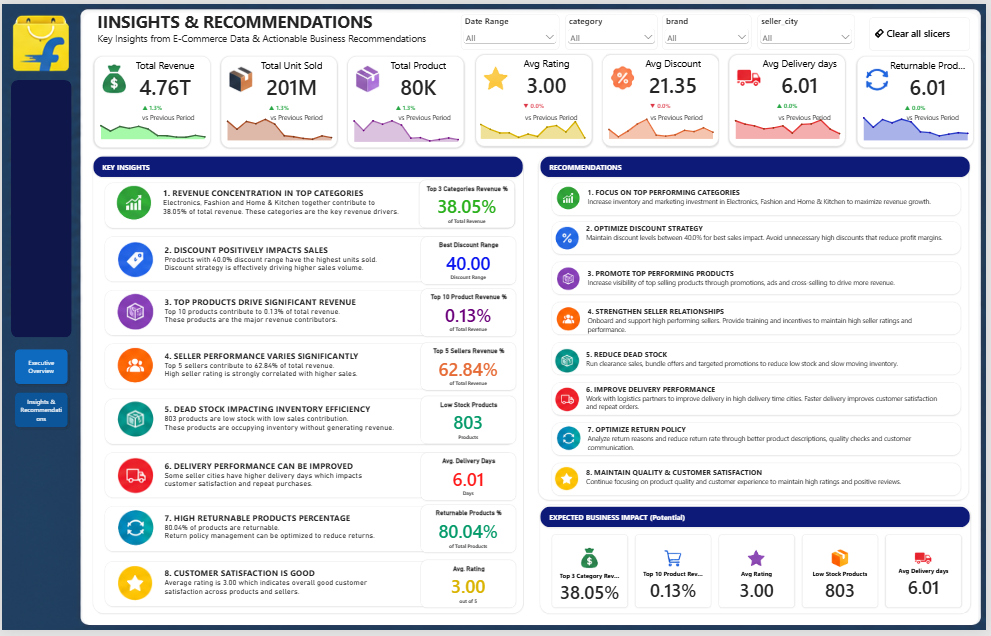

This screenshot's page, from the dashboard's own definition file:
{"tool":"powerbi","page":{"name":"Insights & Recommendations","canvas":[2200,1400],"ordinal":1},"visuals":[{"type":"shape","box":[180,20,2005,1370],"z":0},{"type":"cardVisual","fields":{"Data":["flipkard.Avg Delivery days"]},"box":[1628.1,114.2,260,205],"z":0,"group":"g2"},{"type":"cardVisual","fields":{"Data":["flipkard.Avg Discount"]},"box":[1343.5,114.5,260,205],"z":0,"group":"g3"},{"type":"cardVisual","fields":{"Data":["flipkard.Avg Rating"]},"box":[1059,114.8,260,205],"z":0,"group":"g4"},{"type":"cardVisual","fields":{"Data":["flipkard.Total Product"]},"box":[774.3,115.1,260,205],"z":0,"group":"g5"},{"type":"cardVisual","fields":{"Data":["flipkard.Total Unit Sold"]},"box":[489.7,115.4,260,205],"z":0,"group":"g6"},{"type":"cardVisual","fields":{"Data":["flipkard.Total Revenue"]},"box":[205.2,115.7,260,205],"z":0,"group":"g7"},{"type":"cardVisual","fields":{"Data":["flipkard.Avg Delivery days"]},"box":[1912.7,116,260,205],"z":0,"group":"g1"},{"type":"shape","box":[203.3,340,963.3,1023.3],"z":0,"group":"g8"},{"type":"shape","box":[1200,340,963.3,770],"z":0,"group":"g17"},{"type":"textbox","box":[359.6,412.3,558.9,73.3],"z":0,"group":"g9"},{"type":"textbox","box":[363.3,537.7,558.9,73.3],"z":0,"group":"g10"},{"type":"textbox","box":[363.2,655.7,558.9,73.3],"z":0,"group":"g11"},{"type":"textbox","box":[363.2,775.7,558.9,73.3],"z":0,"group":"g12"},{"type":"textbox","box":[363.2,895.7,558.9,73.3],"z":0,"group":"g13"},{"type":"textbox","box":[363.2,1019.7,558.9,73.3],"z":0,"group":"g14"},{"type":"textbox","box":[361.2,1137.7,558.9,73.3],"z":0,"group":"g15"},{"type":"textbox","box":[361.2,1259.7,558.9,73.3],"z":0,"group":"g16"},{"type":"group","id":"g1","title":"Group 7","box":[1902.7,116,281.4,205.7],"z":1000},{"type":"lineChart","fields":{"Category":["DateTable.Date.Variation.Date Hierarchy.Year","DateTable.Date.Variation.Date Hierarchy.Month"],"Y":["_Measures.Avg Rating"]},"box":[1045.6,227.4,281.4,91.4],"z":1000,"group":"g4"},{"type":"lineChart","fields":{"Category":["DateTable.Date.Variation.Date Hierarchy.Year","DateTable.Date.Variation.Date Hierarchy.Month"],"Y":["_Measures.Avg Discount"]},"box":[1334.1,227.4,281.4,91.4],"z":1000,"group":"g3"},{"type":"lineChart","fields":{"Category":["DateTable.Date.Variation.Date Hierarchy.Year","DateTable.Date.Variation.Date Hierarchy.Month"],"Y":["_Measures.Avg Delivery days"]},"box":[1617,227.4,281.4,91.4],"z":1000,"group":"g2"},{"type":"lineChart","fields":{"Category":["DateTable.Date.Variation.Date Hierarchy.Year","DateTable.Date.Variation.Date Hierarchy.Month"],"Y":["_Measures.Total Revenue"]},"box":[195.6,230.3,281.4,88.6],"z":1000,"group":"g7"},{"type":"lineChart","fields":{"Category":["DateTable.Date.Variation.Date Hierarchy.Year","DateTable.Date.Variation.Date Hierarchy.Month"],"Y":["_Measures.Total Unit Sold"]},"box":[479.8,230.3,281.4,91.4],"z":1000,"group":"g6"},{"type":"lineChart","fields":{"Category":["DateTable.Date.Variation.Date Hierarchy.Year","DateTable.Date.Variation.Date Hierarchy.Month"],"Y":["_Measures.Total Product"]},"box":[764.1,230.3,281.4,91.4],"z":1000,"group":"g5"},{"type":"lineChart","fields":{"Category":["DateTable.Date.Variation.Date Hierarchy.Year","DateTable.Date.Variation.Date Hierarchy.Month"],"Y":["_Measures.Returnable Product"]},"box":[1902.7,230.3,281.4,91.4],"z":1000,"group":"g1"},{"type":"cardVisual","title":"Top 3 Categories Revenue %","fields":{"Data":["_Measures.Top 3 Category Revenue %"]},"box":[934.4,394.6,213.7,107.5],"z":1000,"group":"g9"},{"type":"shape","box":[230.8,398.3,916.7,101.7],"z":1000,"group":"g8"},{"type":"shape","box":[1231,398.6,915.7,72.9],"z":1000,"group":"g17"},{"type":"cardVisual","title":"Best Discount Range","fields":{"Data":["_Measures.Discount Range"]},"box":[938.1,520,213.7,107.5],"z":1000,"group":"g10"},{"type":"cardVisual","title":"Top 10 Product Revenue %","fields":{"Data":["_Measures.Top 10 Product Revenue %"]},"box":[938,638,213.7,107.5],"z":1000,"group":"g11"},{"type":"cardVisual","title":"Top 5 Sellers Revenue %","fields":{"Data":["_Measures.Top 10 Seller Revenue %"]},"box":[938,758,213.7,107.5],"z":1000,"group":"g12"},{"type":"cardVisual","title":"Low Stock Products","fields":{"Data":["_Measures.Low Stock Products"]},"box":[938,878,213.7,107.5],"z":1000,"group":"g13"},{"type":"cardVisual","title":"Avg. Delivery Days","fields":{"Data":["_Measures.Avg Delivery days"]},"box":[938,1002,213.7,107.5],"z":1000,"group":"g14"},{"type":"cardVisual","title":"Returnable Products %","fields":{"Data":["_Measures.Returnable Products %"]},"box":[936,1120,213.7,107.5],"z":1000,"group":"g15"},{"type":"cardVisual","title":"Avg. Rating","fields":{"Data":["_Measures.Avg Rating"]},"box":[936,1242,213.7,107.5],"z":1000,"group":"g16"},{"type":"group","id":"g2","title":"Group 6","box":[1617,114.2,281.4,205],"z":2000},{"type":"shape","box":[205,340,963.3,48.3],"z":2000,"group":"g8"},{"type":"shape","box":[1201.7,340,963.3,48.3],"z":2000,"group":"g17"},{"type":"image","box":[244.4,404.4,104.8,82.5],"z":2000,"group":"g9"},{"type":"image","box":[248.1,529.8,104.8,82.5],"z":2000,"group":"g10"},{"type":"image","box":[248,647.8,104.8,82.5],"z":2000,"group":"g11"},{"type":"image","box":[248,768,104,82],"z":2000,"group":"g12"},{"type":"image","box":[248,888,104,82],"z":2000,"group":"g13"},{"type":"image","box":[248,1012,104,82],"z":2000,"group":"g14"},{"type":"image","box":[246,1130,104,82],"z":2000,"group":"g15"},{"type":"image","box":[246,1252,104,82],"z":2000,"group":"g16"},{"type":"group","id":"g3","title":"Group 5","box":[1334.1,114.5,281.4,205],"z":3000},{"type":"shape","box":[1231,488.1,915.7,72.9],"z":3000,"group":"g17"},{"type":"shape","box":[230.8,519.3,916.7,101.7],"z":3000,"group":"g8"},{"type":"group","id":"g4","title":"Group 4","box":[1045.6,114.8,281.4,205],"z":4000},{"type":"shape","box":[1231,577.6,915.7,72.9],"z":4000,"group":"g17"},{"type":"shape","box":[230.8,640.2,916.7,101.7],"z":4000,"group":"g8"},{"type":"group","id":"g5","title":"Group 3","box":[764.1,115.1,281.4,206.6],"z":5000},{"type":"shape","box":[1231,667,915.7,72.9],"z":5000,"group":"g17"},{"type":"shape","box":[230.8,761.2,916.7,101.7],"z":5000,"group":"g8"},{"type":"group","id":"g6","title":"Group 2","box":[479.8,115.4,281.4,206.3],"z":6000},{"type":"shape","box":[1231,756.5,915.7,72.9],"z":6000,"group":"g17"},{"type":"shape","box":[230.8,882.1,916.7,101.7],"z":6000,"group":"g8"},{"type":"group","id":"g7","title":"Group 1","box":[195.6,115.7,281.4,205],"z":7000},{"type":"shape","box":[1231,846,915.7,72.9],"z":7000,"group":"g17"},{"type":"shape","box":[230.8,1003.1,916.7,101.7],"z":7000,"group":"g8"},{"type":"shape","box":[1231,935.5,915.7,72.9],"z":8000,"group":"g17"},{"type":"shape","box":[1202,1120,964,244],"z":8000},{"type":"shape","box":[230.8,1124,916.7,101.7],"z":8000,"group":"g8"},{"type":"group","id":"g8","title":"Group 10","box":[203.3,340,965,1023.3],"z":9000},{"type":"shape","box":[1231,1025,915.7,72.9],"z":9000,"group":"g17"},{"type":"shape","box":[230.8,1245,916.7,101.6],"z":9000,"group":"g8"},{"type":"textbox","box":[213.3,13.3,796.7,90],"z":10000},{"type":"shape","box":[1202,1124,963.3,48.3],"z":11000},{"type":"slicer","fields":{"Values":["DateTable.Date"]},"box":[1027.8,23.3,220,78.9],"z":12000},{"type":"slicer","fields":{"Values":["flipkard.category"]},"box":[1259,23,207,79],"z":13000},{"type":"slicer","fields":{"Values":["flipkard.seller_city"]},"box":[1691,23,218,79],"z":14000},{"type":"slicer","fields":{"Values":["flipkard.brand"]},"box":[1476,23,200,79],"z":15000},{"type":"actionButton","box":[1941.4,28.6,225.7,74.3],"z":16000},{"type":"image","box":[20,16.7,135,140],"z":17000},{"type":"textbox","box":[312.9,242.9,124.3,20],"z":18000},{"type":"shape","box":[20,170,136,576],"z":19000},{"type":"textbox","box":[598.6,242.9,124.3,20],"z":20000},{"type":"textbox","box":[885.7,242.9,124.3,20],"z":21000},{"type":"textbox","box":[1170,242.9,124.3,20],"z":22000},{"type":"textbox","box":[1451.4,242.9,124.3,20],"z":23000},{"type":"textbox","box":[1737.1,242.9,124.3,20],"z":24000},{"type":"textbox","box":[2022.9,242.9,124.3,20],"z":25000},{"type":"group","id":"g9","title":"Group 8","box":[244.4,394.6,903.7,107.5],"z":26000},{"type":"group","id":"g10","title":"Group 8","box":[248.1,520,903.3,106.7],"z":27000},{"type":"group","id":"g11","title":"Group 8","box":[248,638,902,106],"z":28000},{"type":"group","id":"g12","title":"Group 8","box":[248,758,903.7,107.5],"z":29000},{"type":"group","id":"g13","title":"Group 8","box":[248,878,904,108],"z":30000},{"type":"group","id":"g14","title":"Group 8","box":[248,1002,904,108],"z":31000},{"type":"group","id":"g15","title":"Group 8","box":[246,1120,904,108],"z":32000},{"type":"image","box":[1235,407.5,61.2,55],"z":33000,"group":"g18"},{"type":"image","box":[1234.6,495.3,61,55],"z":33000,"group":"g19"},{"type":"image","box":[1236.1,587.1,61.2,55],"z":33000,"group":"g20"},{"type":"image","box":[1236.1,677.1,61.2,55],"z":33000,"group":"g21"},{"type":"image","box":[1234.6,768.6,61.2,55],"z":33000,"group":"g22"},{"type":"image","box":[1234.6,854.3,61.2,55],"z":33000,"group":"g23"},{"type":"image","box":[1236.1,942.9,61.2,55],"z":33000,"group":"g24"},{"type":"image","box":[1234.6,1032.9,61.2,55],"z":33000,"group":"g25"},{"type":"group","id":"g16","title":"Group 8","box":[246,1242,904,108],"z":33000},{"type":"group","id":"g17","title":"Group 9","box":[1200,340,965,770],"z":34000},{"type":"textbox","box":[1308.6,411.4,807.1,51.4],"z":34000,"group":"g18"},{"type":"textbox","box":[1308,489.4,824.3,71.4],"z":34000,"group":"g19"},{"type":"textbox","box":[1309.7,591,807.1,51.4],"z":34000,"group":"g20"},{"type":"textbox","box":[1310.3,678.3,807.1,64.3],"z":34000,"group":"g21"},{"type":"textbox","box":[1308.2,772.5,807.1,51.4],"z":34000,"group":"g22"},{"type":"textbox","box":[1308.8,849,807.5,68.8],"z":34000,"group":"g23"},{"type":"textbox","box":[1308.5,939.3,808.8,67.5],"z":34000,"group":"g24"},{"type":"textbox","box":[1308.2,1036.8,807.1,51.4],"z":34000,"group":"g25"},{"type":"group","id":"g18","title":"Group 11","box":[1235,407.5,880.7,55.4],"z":35000},{"type":"group","id":"g19","title":"Group 11","box":[1234.6,489.4,897.7,71.4],"z":36000},{"type":"group","id":"g20","title":"Group 11","box":[1236.1,587.1,880.7,55.4],"z":37000},{"type":"group","id":"g21","title":"Group 11","box":[1236.1,677.1,881.3,65.5],"z":38000},{"type":"group","id":"g22","title":"Group 11","box":[1234.6,768.6,880.7,55.4],"z":39000},{"type":"group","id":"g23","title":"Group 11","box":[1234.6,849,881.7,68.8],"z":40000},{"type":"group","id":"g24","title":"Group 11","box":[1236.1,939.3,881.2,67.5],"z":41000},{"type":"group","id":"g25","title":"Group 11","box":[1234.6,1032.9,880.7,55.4],"z":42000},{"type":"cardVisual","fields":{"Data":["_Measures.Top 3 Category Revenue %"]},"box":[1230,1186.2,170,163.8],"z":43000},{"type":"cardVisual","fields":{"Data":["_Measures.Top 10 Product Revenue %"]},"box":[1416.9,1187.5,170,163.8],"z":44000},{"type":"cardVisual","fields":{"Data":["_Measures.Total Revenue Change %"]},"box":[2853.8,2021.2,170,163.8],"z":45000},{"type":"cardVisual","fields":{"Data":["_Measures.Avg Rating"]},"box":[1603.8,1187.5,170,163.8],"z":46000},{"type":"cardVisual","fields":{"Data":["_Measures.Low Stock Products"]},"box":[1790.6,1187.5,170,163.8],"z":47000},{"type":"cardVisual","fields":{"Data":["_Measures.Avg Delivery days"]},"box":[1977.5,1186.2,170,163.8],"z":48000},{"type":"pageNavigator","box":[18.3,763.3,136.7,96.7],"z":48001},{"type":"pageNavigator","box":[18.3,860,136.7,96.7],"z":48002}]}

Visuals, with their boxes in screenshot pixels (x1, y1, x2, y2), scaled from the page's 2200x1400 canvas onto the 991x636 screenshot:
shape: 81:9:984:631
cardVisual - flipkard.Avg Delivery days: 733:52:851:145
cardVisual - flipkard.Avg Discount: 605:52:722:145
cardVisual - flipkard.Avg Rating: 477:52:594:145
cardVisual - flipkard.Total Product: 349:52:466:145
cardVisual - flipkard.Total Unit Sold: 221:52:338:146
cardVisual - flipkard.Total Revenue: 92:53:210:146
cardVisual - flipkard.Avg Delivery days: 862:53:979:146
shape: 92:154:526:619
shape: 541:154:974:504
textbox: 162:187:414:221
textbox: 164:244:415:278
textbox: 164:298:415:331
textbox: 164:352:415:386
textbox: 164:407:415:440
textbox: 164:463:415:497
textbox: 163:517:414:550
textbox: 163:572:414:606
"Group 7" group: 857:53:984:146
lineChart - DateTable.Date.Variation.Date Hierarchy.Year x DateTable.Date.Variation.Date Hierarchy.Month: 471:103:598:145
lineChart - DateTable.Date.Variation.Date Hierarchy.Year x DateTable.Date.Variation.Date Hierarchy.Month: 601:103:728:145
lineChart - DateTable.Date.Variation.Date Hierarchy.Year x DateTable.Date.Variation.Date Hierarchy.Month: 728:103:855:145
lineChart - DateTable.Date.Variation.Date Hierarchy.Year x DateTable.Date.Variation.Date Hierarchy.Month: 88:105:215:145
lineChart - DateTable.Date.Variation.Date Hierarchy.Year x DateTable.Date.Variation.Date Hierarchy.Month: 216:105:343:146
lineChart - DateTable.Date.Variation.Date Hierarchy.Year x DateTable.Date.Variation.Date Hierarchy.Month: 344:105:471:146
lineChart - DateTable.Date.Variation.Date Hierarchy.Year x DateTable.Date.Variation.Date Hierarchy.Month: 857:105:984:146
"Top 3 Categories Revenue %" cardVisual: 421:179:517:228
shape: 104:181:517:227
shape: 555:181:967:214
"Best Discount Range" cardVisual: 423:236:519:285
"Top 10 Product Revenue %" cardVisual: 423:290:519:339
"Top 5 Sellers Revenue %" cardVisual: 423:344:519:393
"Low Stock Products" cardVisual: 423:399:519:448
"Avg. Delivery Days" cardVisual: 423:455:519:504
"Returnable Products %" cardVisual: 422:509:518:558
"Avg. Rating" cardVisual: 422:564:518:613
"Group 6" group: 728:52:855:145
shape: 92:154:526:176
shape: 541:154:975:176
image: 110:184:157:221
image: 112:241:159:278
image: 112:294:159:332
image: 112:349:159:386
image: 112:403:159:441
image: 112:460:159:497
image: 111:513:158:551
image: 111:569:158:606
"Group 5" group: 601:52:728:145
shape: 555:222:967:255
shape: 104:236:517:282
"Group 4" group: 471:52:598:145
shape: 555:262:967:296
shape: 104:291:517:337
"Group 3" group: 344:52:471:146
shape: 555:303:967:336
shape: 104:346:517:392
"Group 2" group: 216:52:343:146
shape: 555:344:967:377
shape: 104:401:517:447
"Group 1" group: 88:53:215:146
shape: 555:384:967:417
shape: 104:456:517:502
shape: 555:425:967:458
shape: 541:509:976:620
shape: 104:511:517:557
"Group 10" group: 92:154:526:619
shape: 555:466:967:499
shape: 104:566:517:612
textbox: 96:6:455:47
shape: 541:511:975:533
slicer - DateTable.Date: 463:11:562:46
slicer - flipkard.category: 567:10:660:46
slicer - flipkard.seller_city: 762:10:860:46
slicer - flipkard.brand: 665:10:755:46
actionButton: 875:13:976:47
image: 9:8:70:71
textbox: 141:110:197:119
shape: 9:77:70:339
textbox: 270:110:326:119
textbox: 399:110:455:119
textbox: 527:110:583:119
textbox: 654:110:710:119
textbox: 782:110:838:119
textbox: 911:110:967:119
"Group 8" group: 110:179:517:228
"Group 8" group: 112:236:519:285
"Group 8" group: 112:290:518:338
"Group 8" group: 112:344:519:393
"Group 8" group: 112:399:519:448
"Group 8" group: 112:455:519:504
"Group 8" group: 111:509:518:558
image: 556:185:584:210
image: 556:225:584:250
image: 557:267:584:292
image: 557:308:584:333
image: 556:349:584:374
image: 556:388:584:413
image: 557:428:584:453
image: 556:469:584:494
"Group 8" group: 111:564:518:613
"Group 9" group: 541:154:975:504
textbox: 589:187:953:210
textbox: 589:222:961:255
textbox: 590:268:954:292
textbox: 590:308:954:337
textbox: 589:351:953:374
textbox: 590:386:953:417
textbox: 589:427:954:457
textbox: 589:471:953:494
"Group 11" group: 556:185:953:210
"Group 11" group: 556:222:961:255
"Group 11" group: 557:267:954:292
"Group 11" group: 557:308:954:337
"Group 11" group: 556:349:953:374
"Group 11" group: 556:386:953:417
"Group 11" group: 557:427:954:457
"Group 11" group: 556:469:953:494
cardVisual - _Measures.Top 3 Category Revenue %: 554:539:631:613
cardVisual - _Measures.Top 10 Product Revenue %: 638:539:715:614
cardVisual - _Measures.Avg Rating: 722:539:799:614
cardVisual - _Measures.Low Stock Products: 807:539:883:614
cardVisual - _Measures.Avg Delivery days: 891:539:967:613
pageNavigator: 8:347:70:391
pageNavigator: 8:391:70:435
